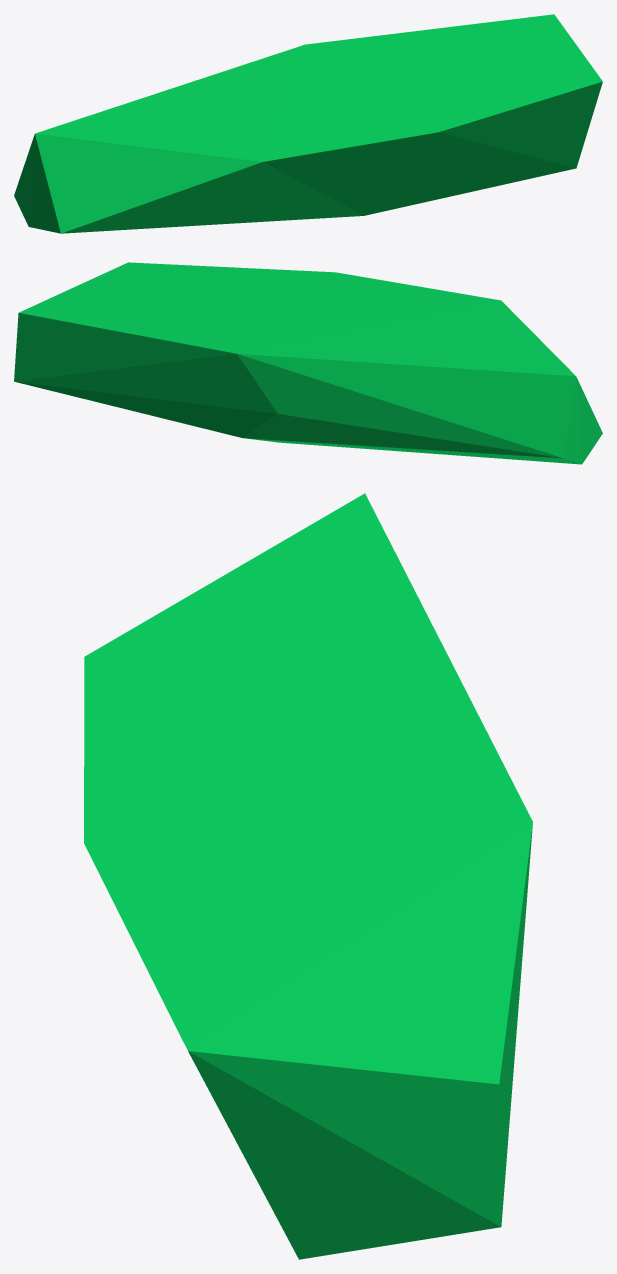
Rendered from torso_convex_piece_039.obj.
The picture shows the model from 3 angles, top to bottom: view 1: azimuth 30°, elevation 25°; view 2: azimuth 150°, elevation 25°; view 3: azimuth 270°, elevation 25°; orthographic projection. The views are drawn at different scales.
Bounding box in the file's own units: 0.1605 × 0.0407 × 0.0584.
